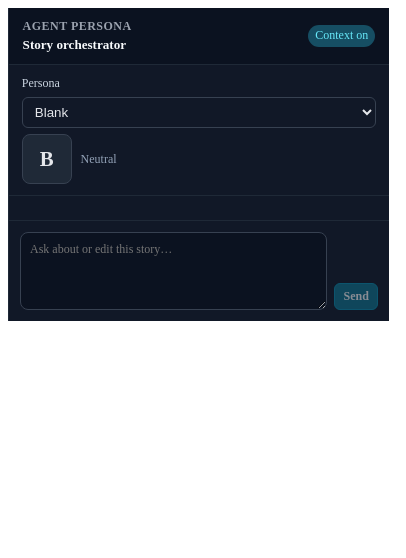
Test: PageAgentPanel › stages proposed changes on the active page without rendering raw JSON
Check: the button "Send" is shown, box [334,283,378,310]
Type "Tighten the summary" into the text box named "Message page orchestrator" at (174,271), box [20,232,327,310]
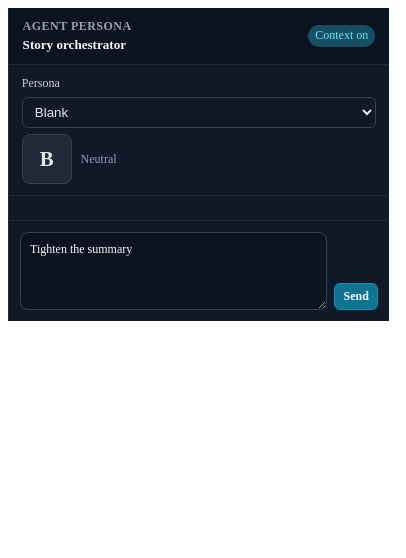
Click the button "Send" at (356,297), box [334,283,378,310]
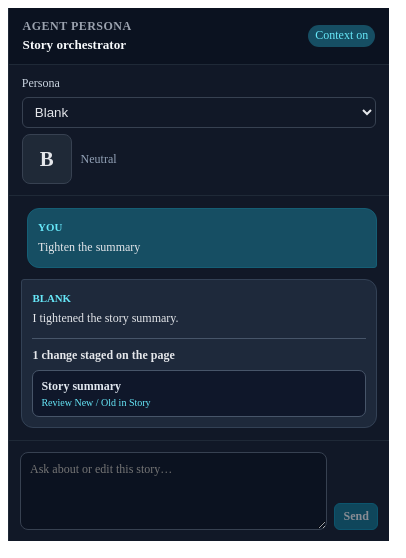
Check: the text "Story summary" is shown, box [41,379,121,393]
Check: the text "Review New / Old in Story" is shown, box [41,397,151,408]
